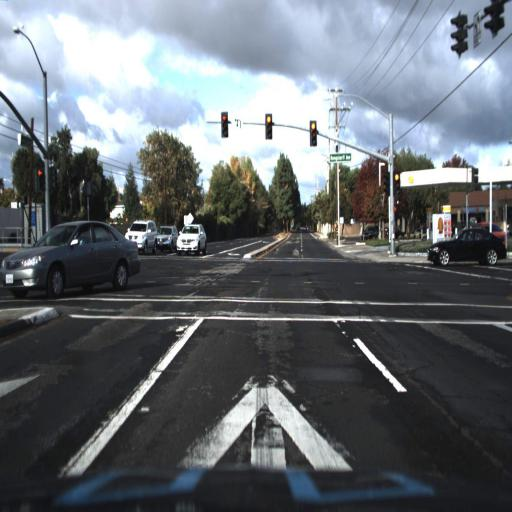car: (0, 220, 140, 302), (419, 224, 509, 276), (175, 219, 206, 257), (128, 219, 154, 251), (486, 212, 512, 240), (158, 224, 176, 254)
trafficLight-Red: (309, 119, 318, 138), (266, 114, 273, 138), (391, 172, 398, 196)
trafficLight-RedLeft: (32, 161, 43, 195), (221, 107, 229, 133)
